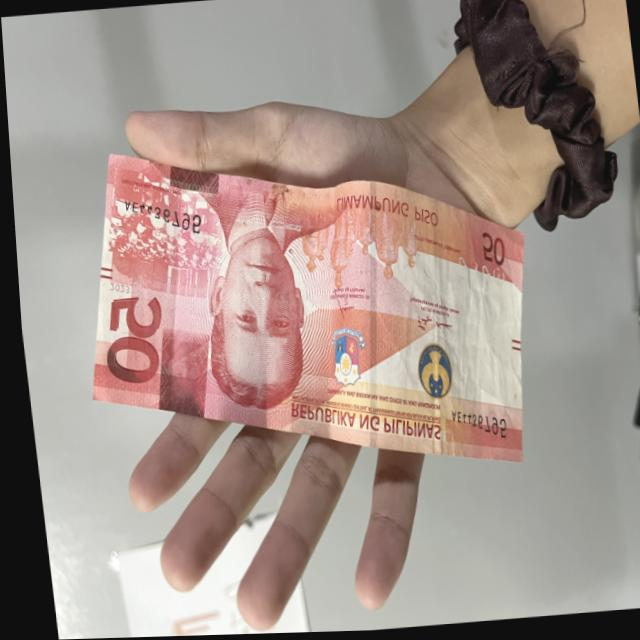concealed_value: (144, 320, 215, 420)
security_thread: (331, 180, 401, 451)
see_through_mark: (432, 241, 514, 303)
serial_number: (111, 186, 211, 250), (437, 401, 509, 456)
value: (96, 285, 166, 391)
